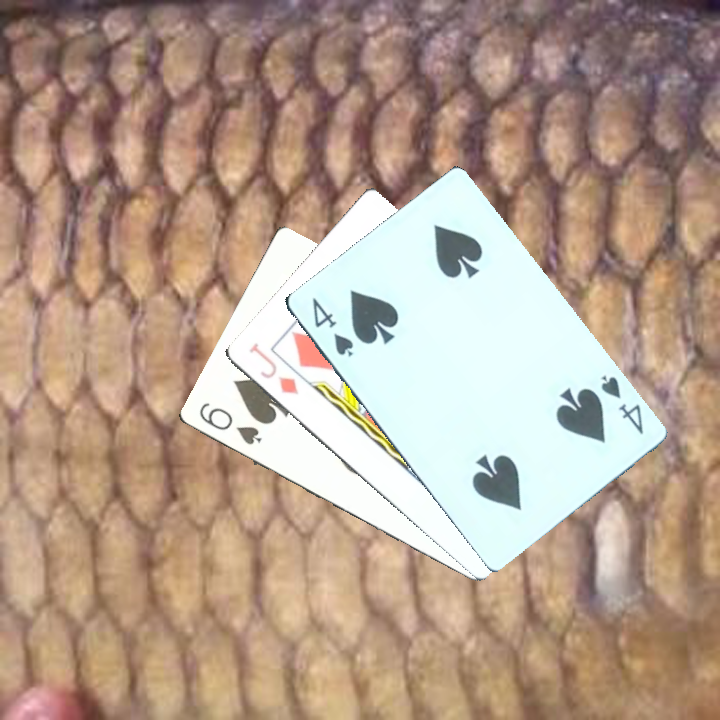4s: (596, 370, 646, 437), (308, 294, 356, 360)
6s: (194, 398, 265, 448)
Jd: (245, 338, 302, 398)
